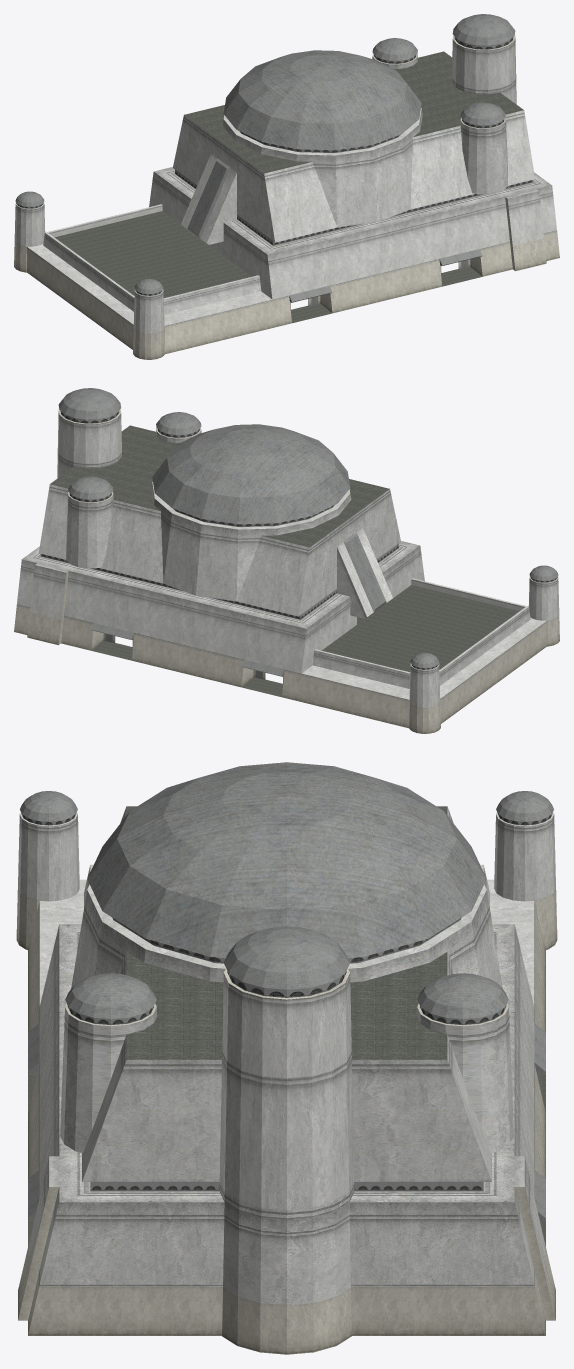
The model's file is mun_corl_hospital_s01_r0_mesh_l0.fbx.
3 views of the same model, one above another, from view 1: azimuth 30°, elevation 25°; view 2: azimuth 150°, elevation 25°; view 3: azimuth 270°, elevation 25° (orthographic). The views are drawn at different scales.
Visible parts, largest first — view 1: mesh_node; view 2: mesh_node; view 3: mesh_node.
Part boxes in pixels (bbox=[...]): mesh_node: bbox=[14, 14, 559, 359]; mesh_node: bbox=[14, 388, 559, 733]; mesh_node: bbox=[16, 762, 557, 1354].
Size of the model in its own units: 97.9 by 41.44 by 52.24.
